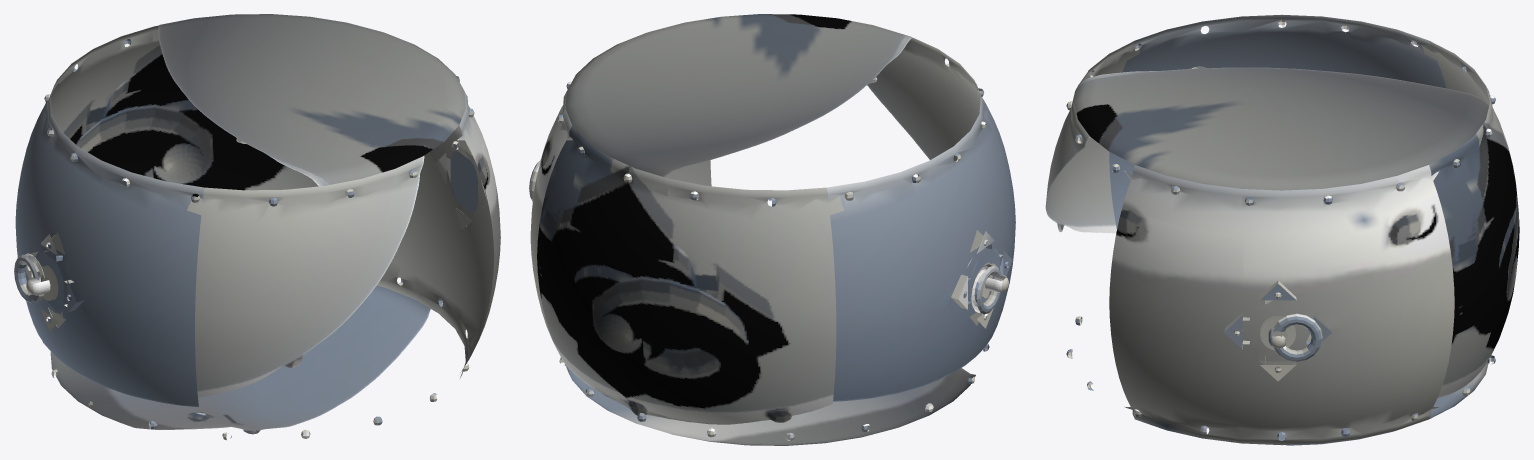
File: Monk 1.fbx
3 renders of one model, left to right at view 1: azimuth 30°, elevation 25°; view 2: azimuth 150°, elevation 25°; view 3: azimuth 270°, elevation 25°, orthographic.
Parts seen in each view (by area): view 1: Torus; view 2: Torus; view 3: Torus.
Part boxes in pixels (left/top/right/bottom): Torus: left=14, top=14, right=500, bottom=440; Torus: left=529, top=14, right=1015, bottom=445; Torus: left=1045, top=14, right=1519, bottom=445.
Size of the model in its own units: 695 by 381 by 616.
